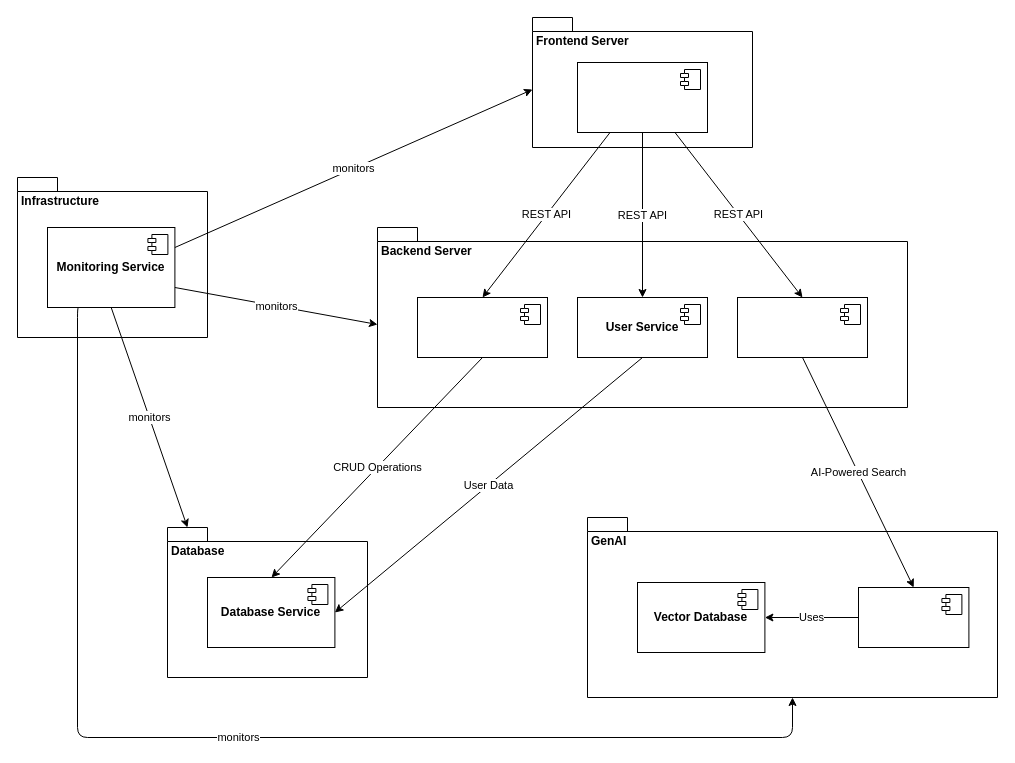
Some shapes in this 1015 by 763 pixel diagram are drawn without their labels. Each missing label, with the centre of its shape:
AI Service: the point at 913,617
Frontend Service: the point at 642,97
Search Service: the point at 802,327
Wiki Service: the point at 482,327
